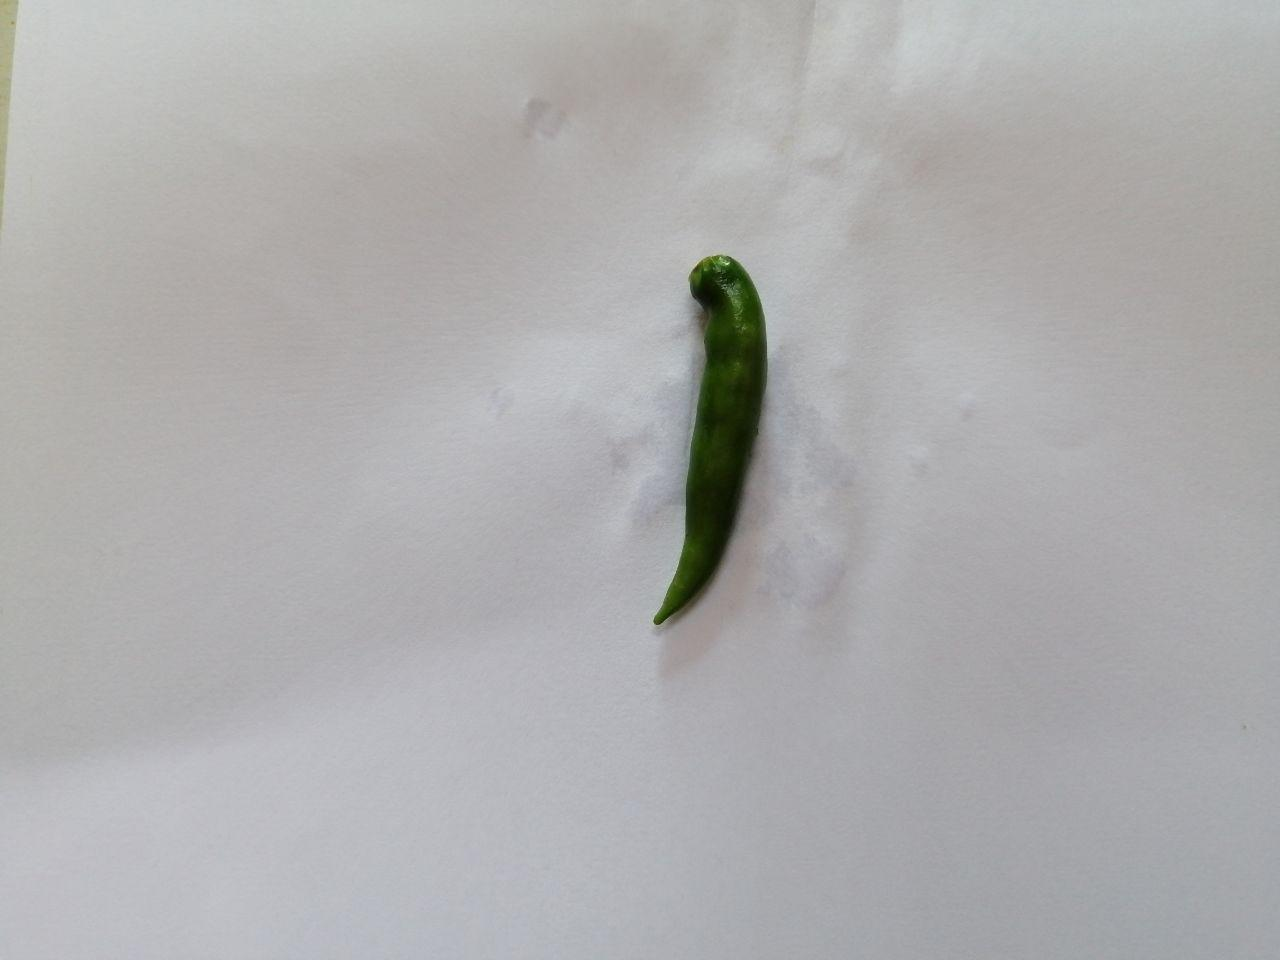lada hijau: (635, 239, 799, 625)
